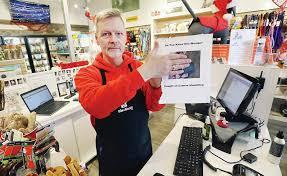Normal: (70, 5, 255, 150)
